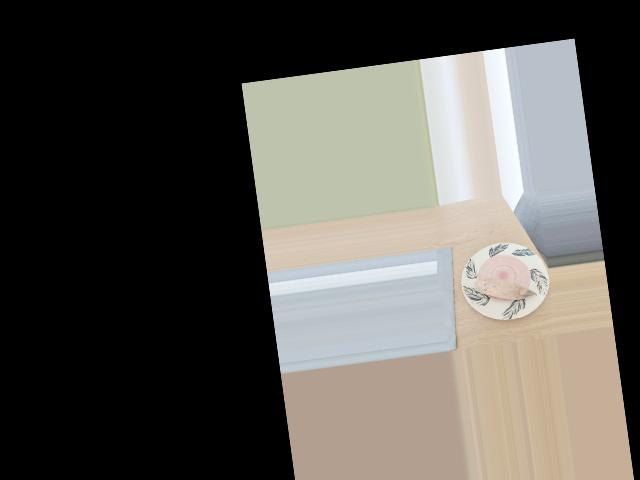sweet_potato: (475, 269, 532, 309)
